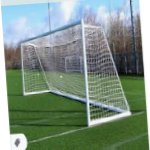goals: (17, 17, 133, 129)
